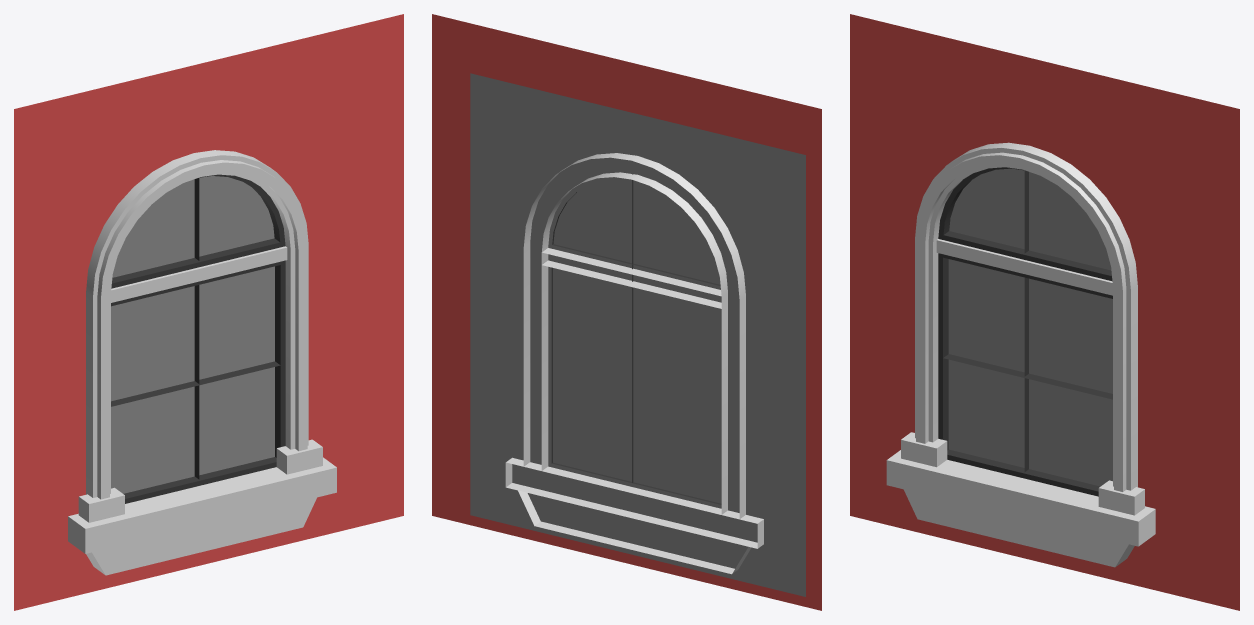
Rendered from object_B1_Window_corner.glb.
3 views of the same model, side by side, from view 1: azimuth 30°, elevation 25°; view 2: azimuth 150°, elevation 25°; view 3: azimuth 330°, elevation 25° (orthographic).
Visible parts, largest first — view 1: B1 Window corner; view 2: B1 Window corner; view 3: B1 Window corner.
Part boxes in pixels (box(x1,y1,x2,y2)): B1 Window corner: box(14, 14, 403, 610); B1 Window corner: box(432, 14, 821, 610); B1 Window corner: box(850, 14, 1239, 610).
Size of the model in its own units: 3.25 by 4 by 0.4.
